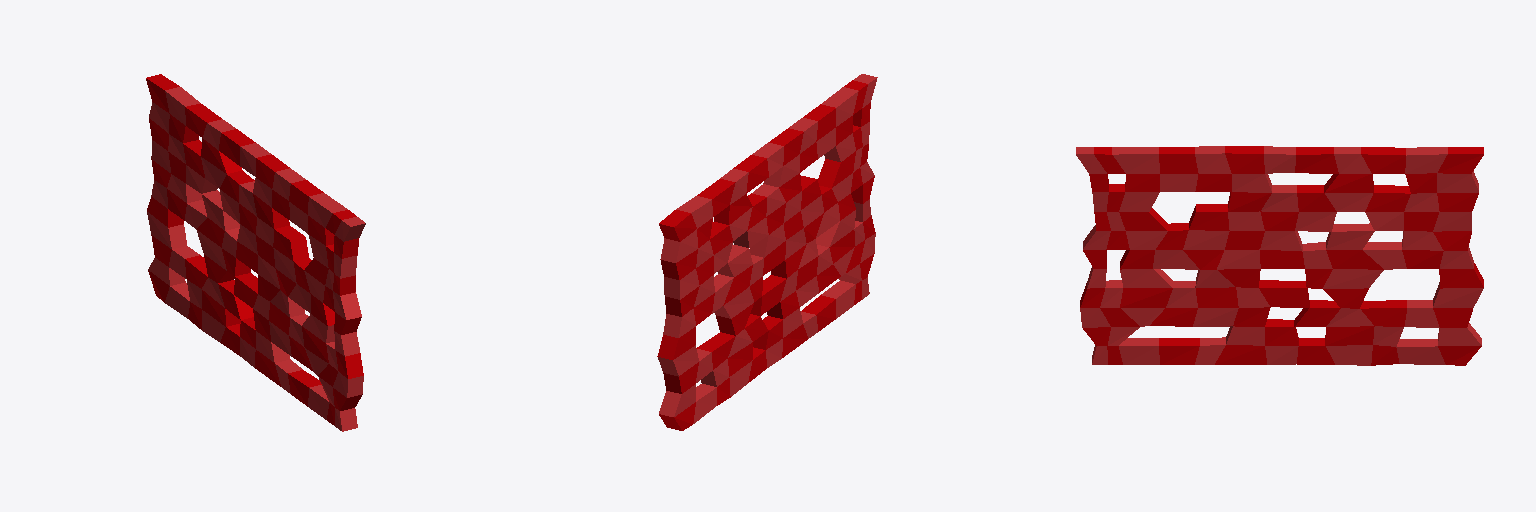
File: wall1A(F340).obj
3 views of the same model, side by side, from view 1: azimuth 30°, elevation 25°; view 2: azimuth 150°, elevation 25°; view 3: azimuth 270°, elevation 25° (orthographic).
Visible parts, largest first — view 1: Plane; view 2: Plane; view 3: Plane.
Part boxes in pixels (x1,y1,x2,y2): Plane: (146, 74, 365, 431); Plane: (657, 74, 877, 430); Plane: (1076, 146, 1483, 365).
Size of the model in its own units: 1.04 by 11.99 by 20.93.